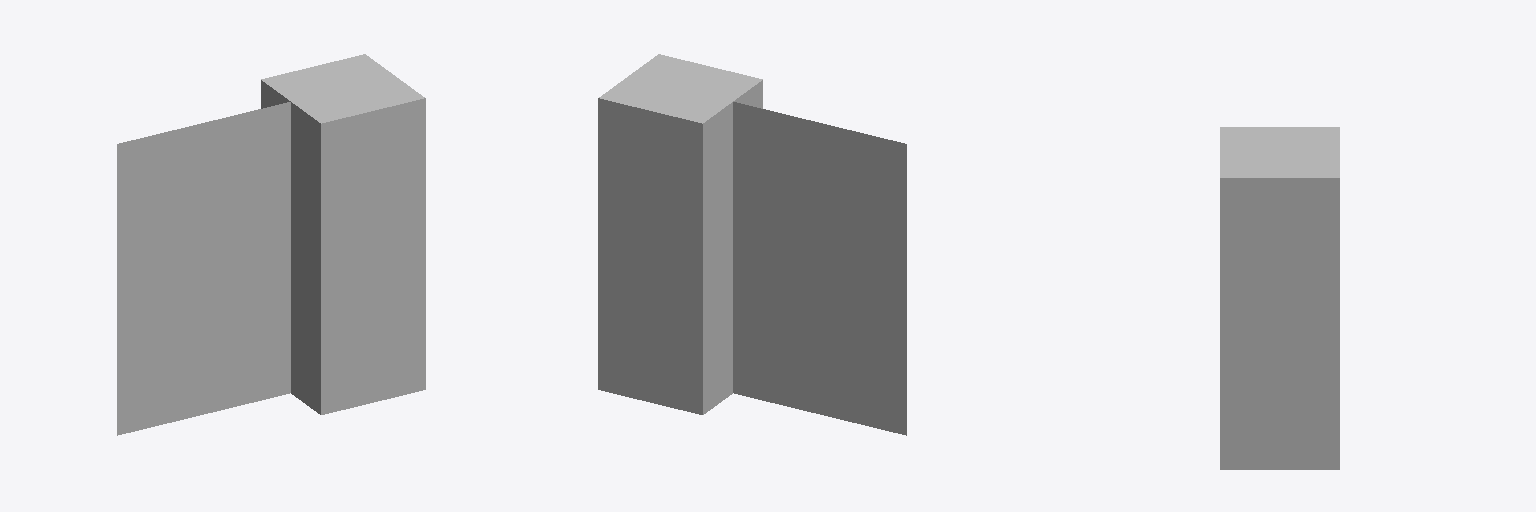
Rendered from grade_viga.obj.
3 renders of one model, left to right at view 1: azimuth 30°, elevation 25°; view 2: azimuth 150°, elevation 25°; view 3: azimuth 270°, elevation 25°, orthographic.
Visible parts, largest first — view 1: cube, bb_main; view 2: cube, bb_main; view 3: bb_main.
Boxes of the visible parts, x1,y1,x2,y2 form: cube: [117, 102, 290, 435]; bb_main: [261, 54, 425, 414]; cube: [733, 102, 906, 435]; bb_main: [598, 54, 762, 414]; bb_main: [1220, 127, 1339, 469].
Size of the model in its own units: 1 by 1 by 0.375.